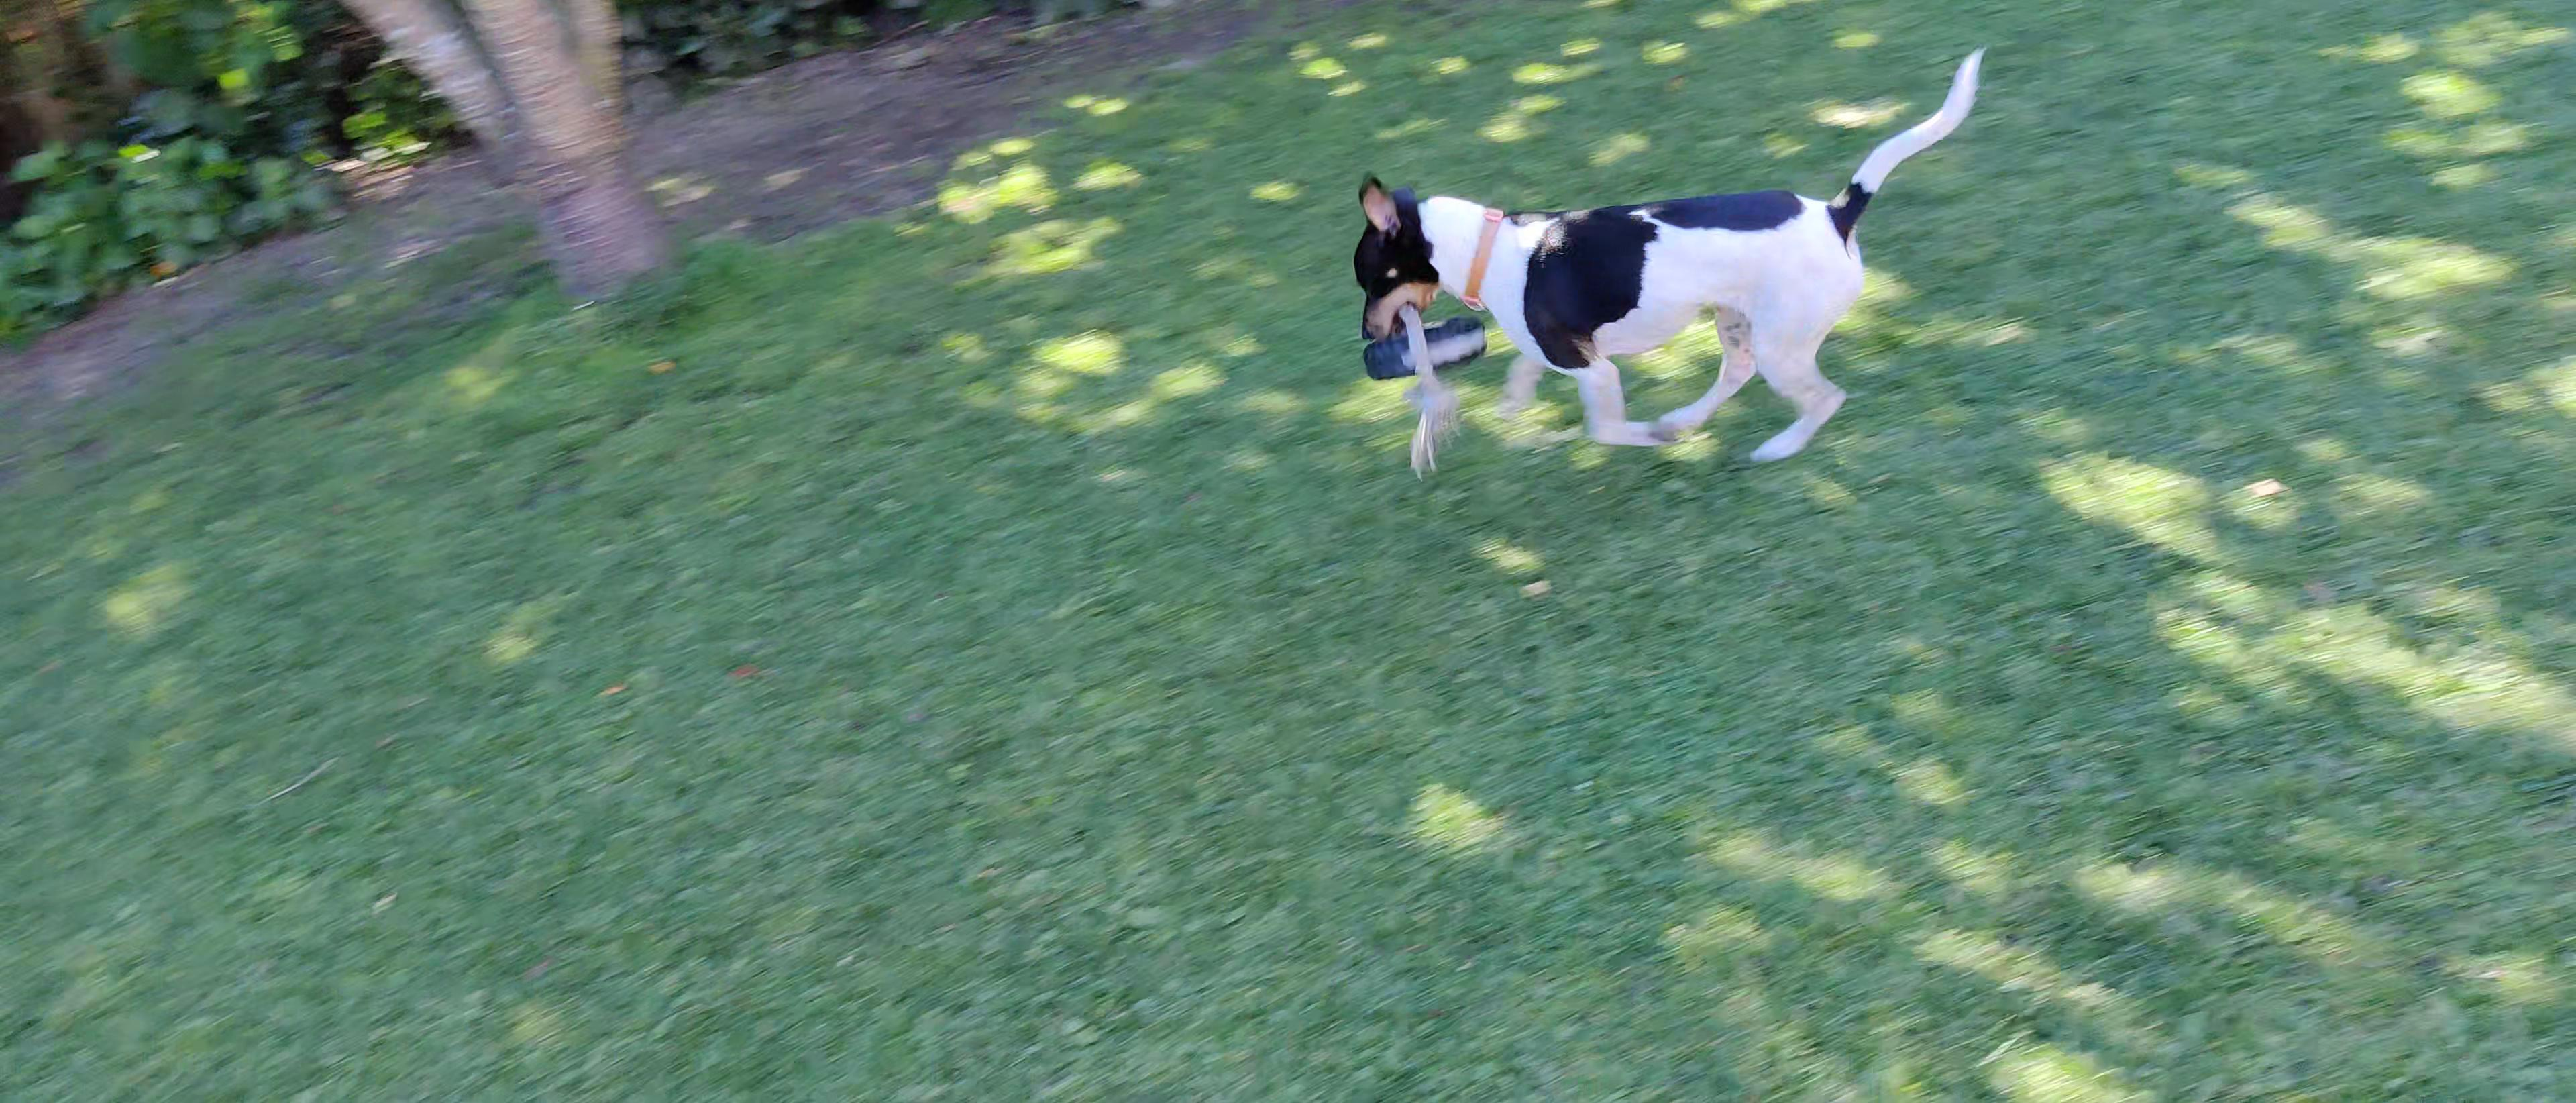Dog: (1344, 46, 1993, 470)
